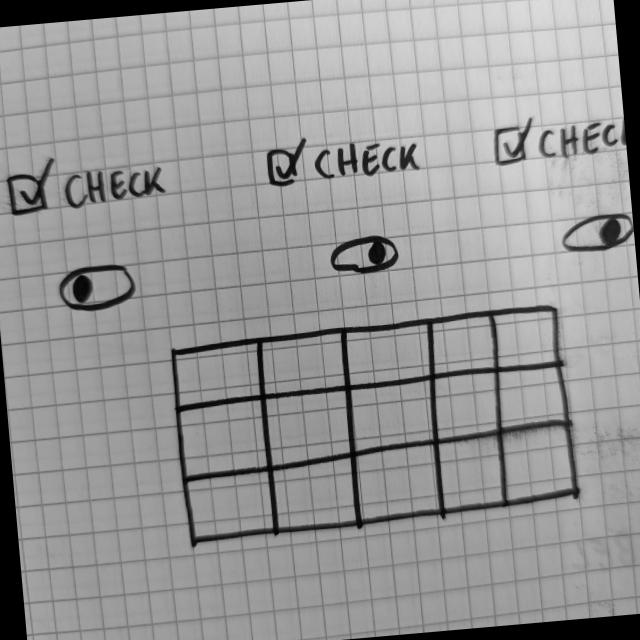checkbox: (3, 145, 172, 223), (264, 127, 427, 195), (490, 107, 628, 168)
table: (167, 303, 583, 549)
toggle: (56, 259, 140, 318), (556, 210, 636, 260), (327, 232, 404, 280)
